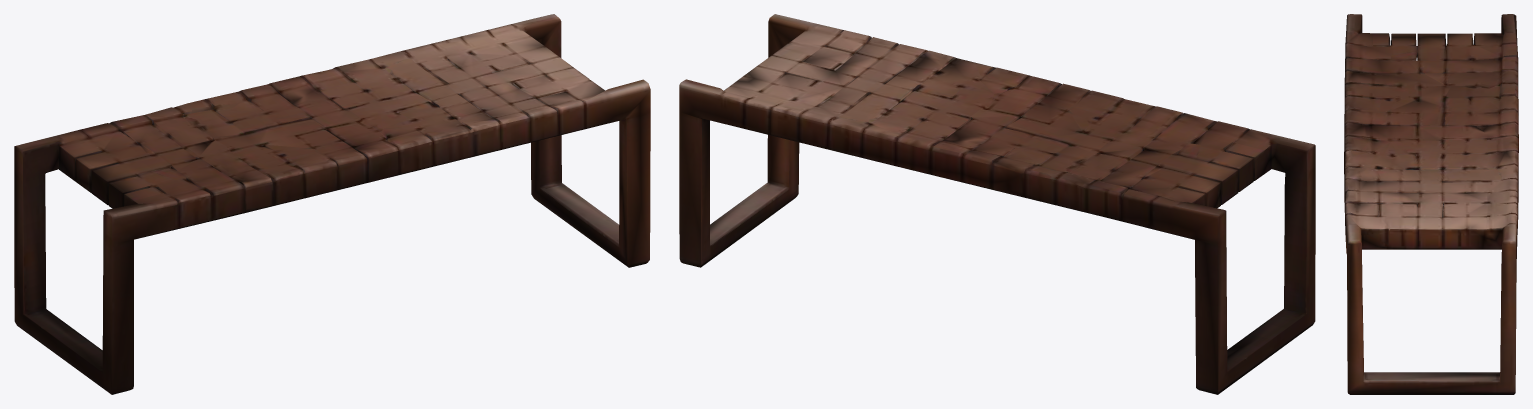
The picture shows the model from 3 angles, left to right: view 1: azimuth 30°, elevation 25°; view 2: azimuth 150°, elevation 25°; view 3: azimuth 270°, elevation 25°; orthographic projection. The views are drawn at different scales.
Visible parts, largest first — view 1: geometry_0; view 2: geometry_0; view 3: geometry_0.
Part boxes in pixels (x1,y1,x2,y2): geometry_0: (14, 14, 650, 394); geometry_0: (679, 14, 1315, 394); geometry_0: (1344, 14, 1518, 394).
Bounding box in the file's own units: 1 × 0.3212 × 0.325.
1 material, 1 textured.
